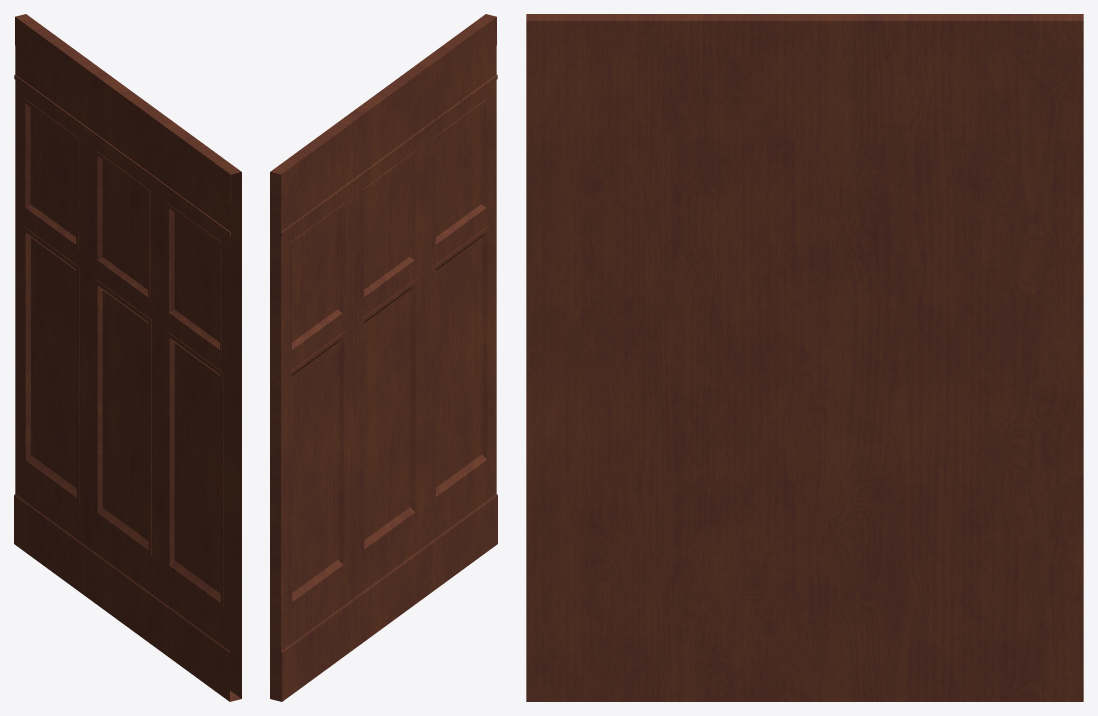
The model's file is SM_VarnishWall01C.fbx.
3 renders of one model, left to right at view 1: azimuth 30°, elevation 25°; view 2: azimuth 150°, elevation 25°; view 3: azimuth 270°, elevation 25°, orthographic. The views are drawn at different scales.
Parts seen in each view (by area): view 1: SM_VarnishWall01C; view 2: SM_VarnishWall01C; view 3: SM_VarnishWall01C.
Boxes of the visible parts, <box> form: SM_VarnishWall01C: <box>14,14,241,701</box>; SM_VarnishWall01C: <box>270,14,497,701</box>; SM_VarnishWall01C: <box>526,14,1083,701</box>.
Size of the model in its own units: 4.39 by 136 by 184.
Materials: 1 (1 with a texture image).
